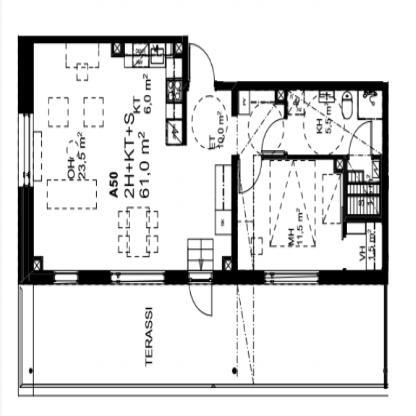door: (186, 40, 220, 94), (233, 149, 269, 197), (186, 276, 216, 319), (345, 119, 375, 157)
window: (15, 106, 37, 192), (108, 266, 171, 290), (261, 266, 322, 288), (50, 265, 82, 290)
